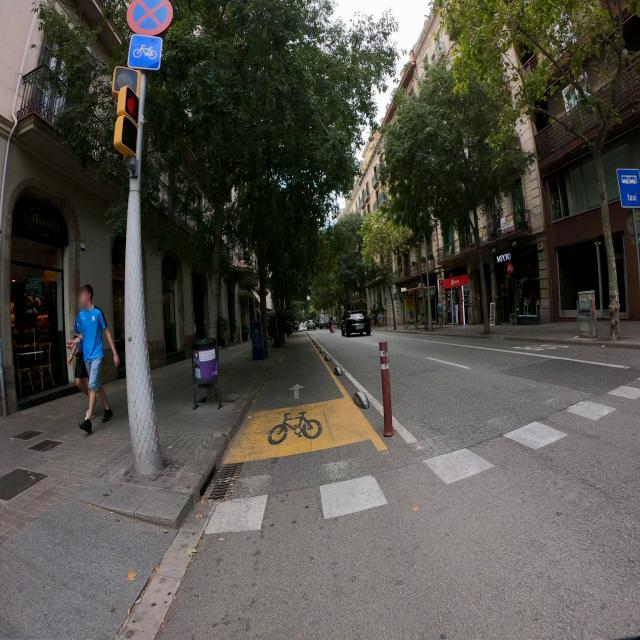car: (340, 309, 372, 338), (318, 318, 333, 332), (306, 318, 316, 332)
